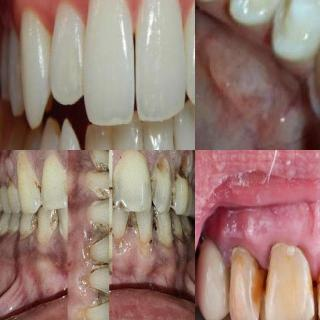Gum Swelling: (220, 223, 285, 271), (281, 229, 320, 280)
calculus: (90, 221, 111, 250), (141, 174, 159, 205), (87, 184, 109, 208), (125, 208, 142, 236), (31, 175, 47, 201), (89, 292, 109, 312), (51, 209, 65, 237), (166, 182, 181, 206), (92, 158, 108, 180), (88, 259, 107, 277), (168, 216, 180, 244), (181, 221, 195, 245), (151, 212, 163, 239), (28, 212, 40, 234)
maligned: (52, 118, 90, 150)
plaque: (270, 232, 310, 264), (226, 237, 244, 259)
